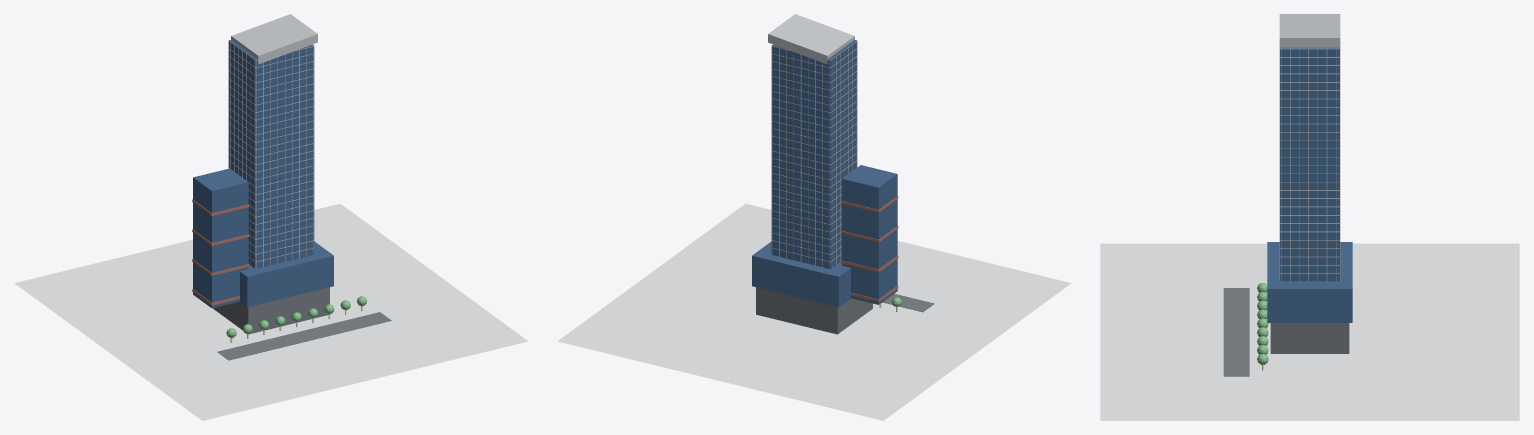
Rendered from LightExchange_DigitalTwin.glb.
3 views of the same model, side by side, from view 1: azimuth 30°, elevation 25°; view 2: azimuth 150°, elevation 25°; view 3: azimuth 270°, elevation 25° (orthographic). The views are drawn at different scales.
Visible parts, largest first — view 1: Plaza_Ground, Facade_Main_Glass, Facade_Secondary_Tower, Facade_Podium_Glass, Zone_A_ME_Plant, Facade_Crown_Slope, Street; view 2: Plaza_Ground, Facade_Main_Glass, Facade_Secondary_Tower, Facade_Podium_Glass, Zone_A_ME_Plant, Facade_Crown_Slope; view 3: Plaza_Ground, Facade_Main_Glass, Facade_Podium_Glass, Zone_A_ME_Plant, Street, Facade_Crown_Slope, Mullion_VF_8, Mullion_VS_5.
Part boxes in pixels (x1=…): Plaza_Ground: x1=14, y1=203, x2=528, y2=420; Facade_Main_Glass: x1=228, y1=39, x2=314, y2=269; Facade_Secondary_Tower: x1=193, y1=168, x2=248, y2=308; Facade_Podium_Glass: x1=240, y1=241, x2=333, y2=307; Zone_A_ME_Plant: x1=213, y1=287, x2=329, y2=334; Facade_Crown_Slope: x1=231, y1=14, x2=317, y2=64; Street: x1=217, y1=312, x2=391, y2=360; Plaza_Ground: x1=557, y1=203, x2=1071, y2=420; Facade_Main_Glass: x1=771, y1=39, x2=857, y2=269; Facade_Secondary_Tower: x1=842, y1=165, x2=897, y2=304; Facade_Podium_Glass: x1=752, y1=241, x2=850, y2=307; Zone_A_ME_Plant: x1=756, y1=287, x2=872, y2=334; Facade_Crown_Slope: x1=768, y1=14, x2=854, y2=64; Plaza_Ground: x1=1100, y1=243, x2=1519, y2=420; Facade_Main_Glass: x1=1280, y1=47, x2=1339, y2=281; Facade_Podium_Glass: x1=1267, y1=242, x2=1352, y2=322; Zone_A_ME_Plant: x1=1270, y1=323, x2=1349, y2=353; Street: x1=1223, y1=288, x2=1249, y2=376; Facade_Crown_Slope: x1=1279, y1=14, x2=1340, y2=47; Mullion_VF_8: x1=1279, y1=48, x2=1340, y2=280; Mullion_VS_5: x1=1326, y1=49, x2=1327, y2=281.
Bounding box in the file's own units: 160 × 131 × 160.
